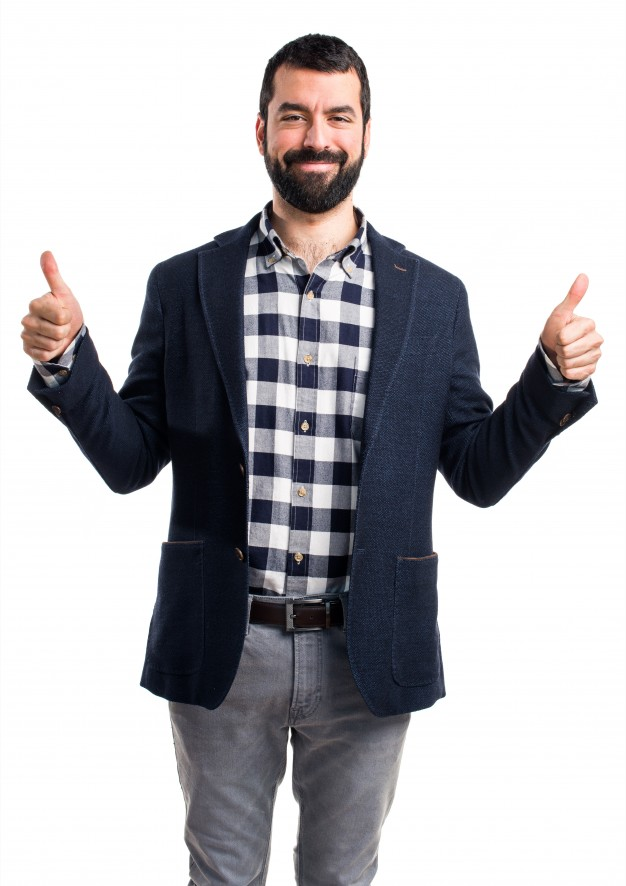thumbsup: (21, 250, 71, 361), (553, 273, 603, 379)
